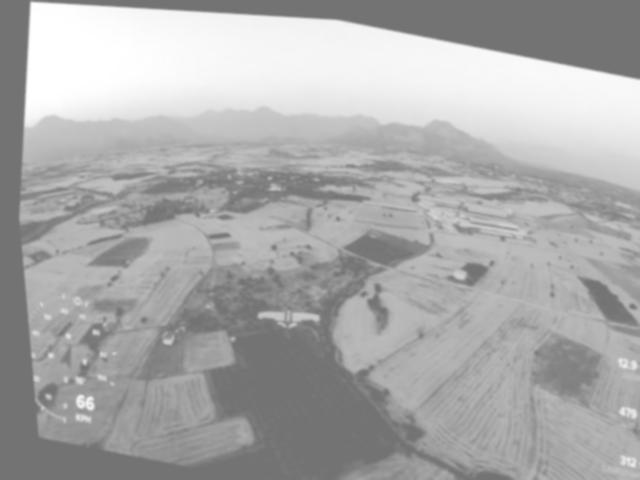hedef: (241, 290, 331, 345)
